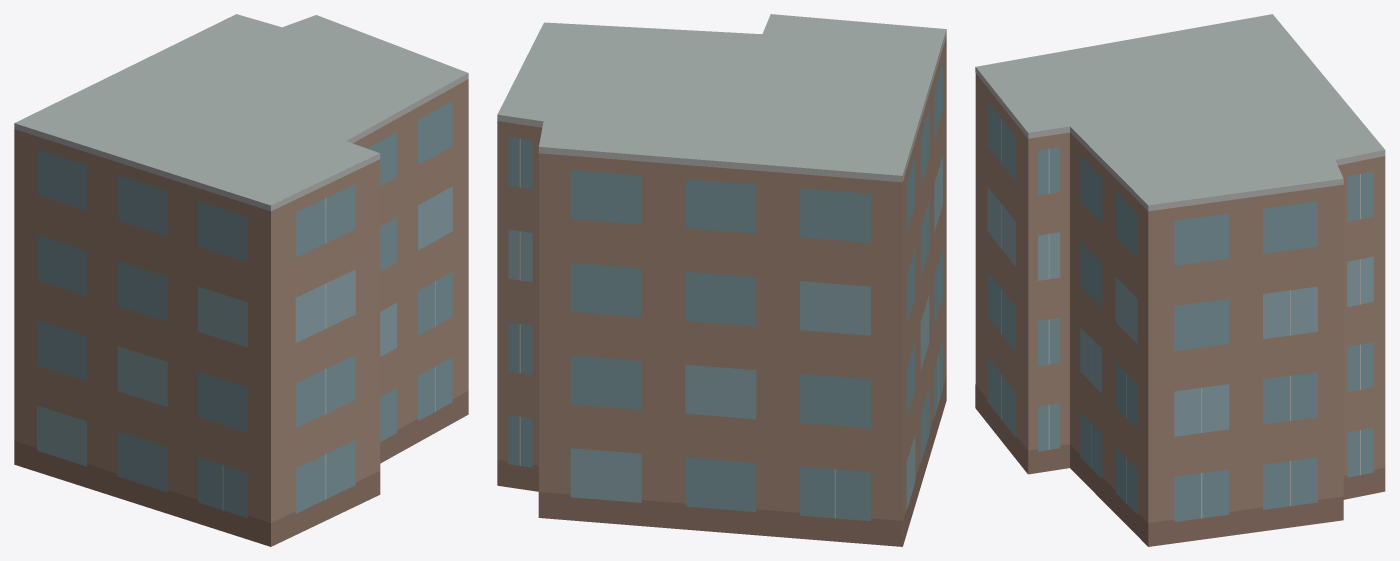
The model's file is survey-upis-32850578.glb.
3 views of the same model, side by side, from view 1: azimuth 30°, elevation 25°; view 2: azimuth 150°, elevation 25°; view 3: azimuth 270°, elevation 25° (orthographic). The views are drawn at different scales.
Visible parts, largest first — view 1: survey-upis-32850578.tmp; view 2: survey-upis-32850578.tmp; view 3: survey-upis-32850578.tmp.
Part boxes in pixels (x1,y1,x2,y2): survey-upis-32850578.tmp: [14, 14, 468, 546]; survey-upis-32850578.tmp: [497, 14, 946, 546]; survey-upis-32850578.tmp: [975, 14, 1385, 546].
Size of the model in its own units: 16.99 by 14.12 by 15.37.
